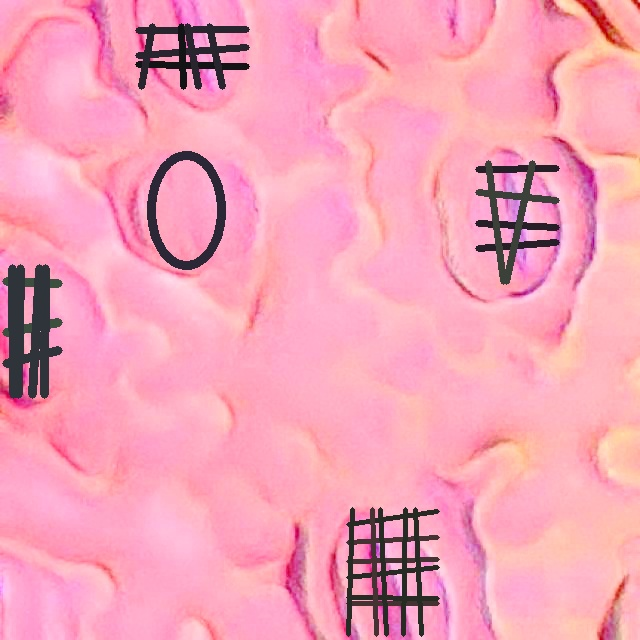close: (147, 149, 226, 270)
open: (346, 507, 439, 636), (475, 160, 559, 284), (3, 265, 61, 398), (135, 23, 249, 89)
